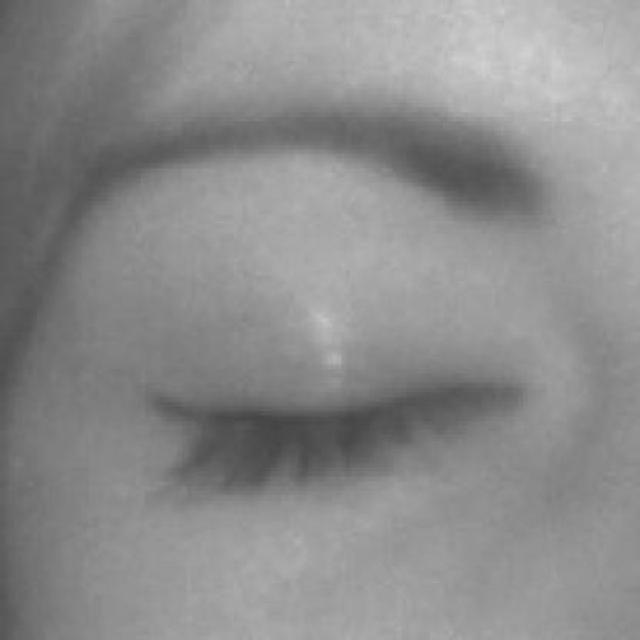drowsy: (148, 234, 532, 604)
